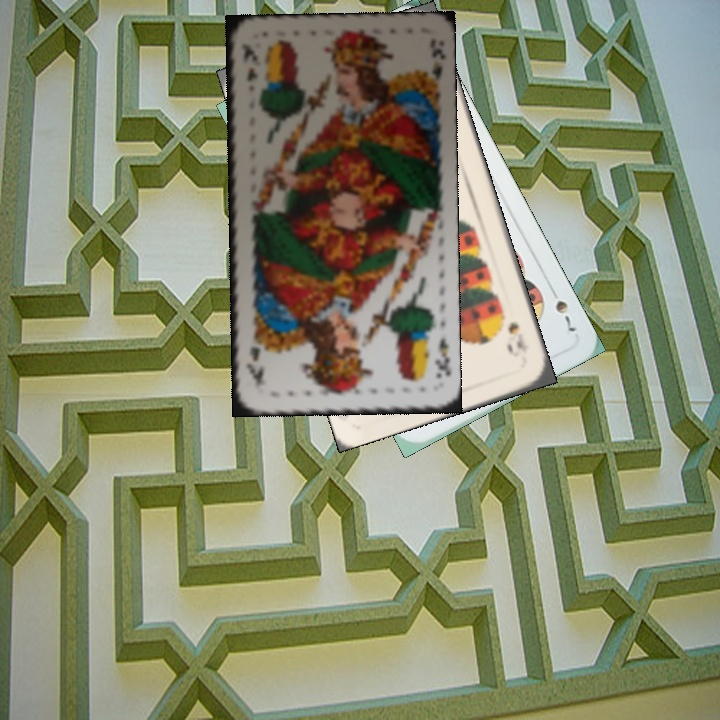EK: (237, 40, 260, 85), (431, 333, 452, 381)
S10: (504, 318, 532, 356)
S7: (545, 282, 580, 335)
